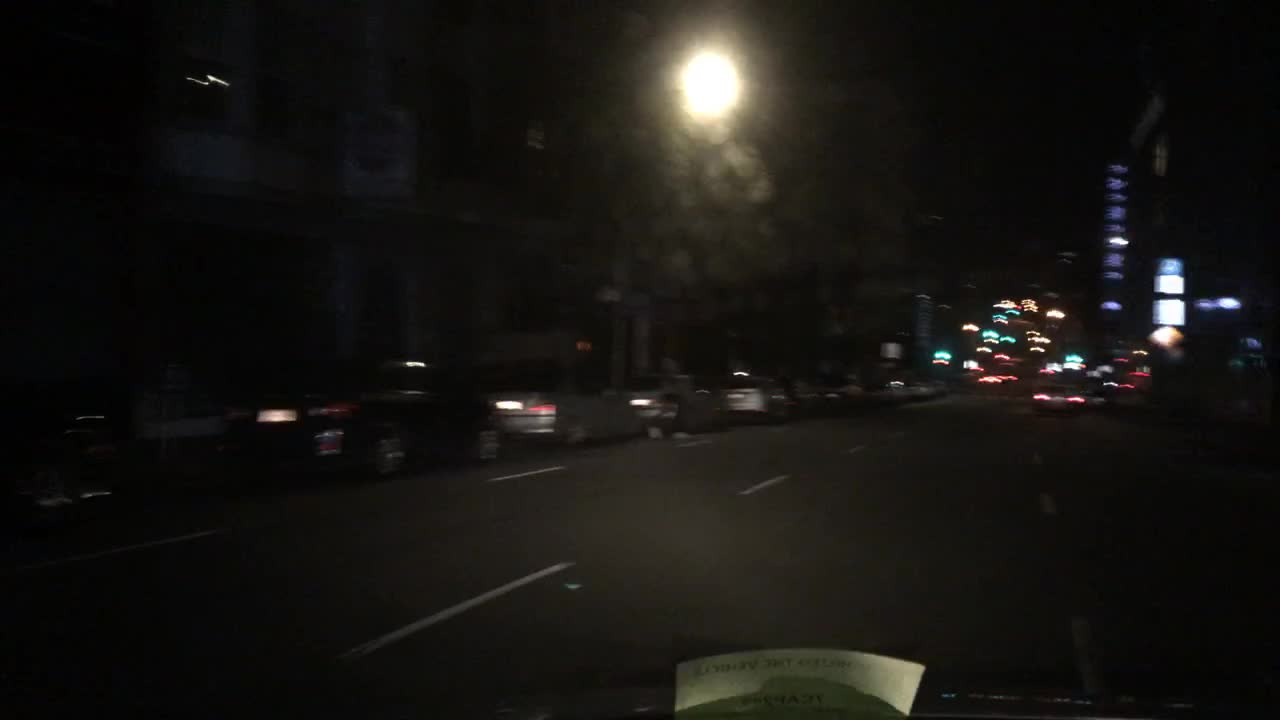car: (247, 355, 482, 481), (0, 400, 127, 513), (473, 362, 632, 440), (625, 369, 717, 427), (715, 369, 798, 418), (1027, 368, 1081, 410), (793, 378, 859, 404), (1102, 369, 1145, 400), (851, 378, 896, 400), (894, 369, 929, 394), (974, 371, 1017, 388), (925, 374, 948, 392)
traffic sign: (341, 107, 414, 195), (1153, 256, 1180, 294), (1153, 297, 1187, 320), (1148, 326, 1180, 348), (526, 118, 546, 150)
